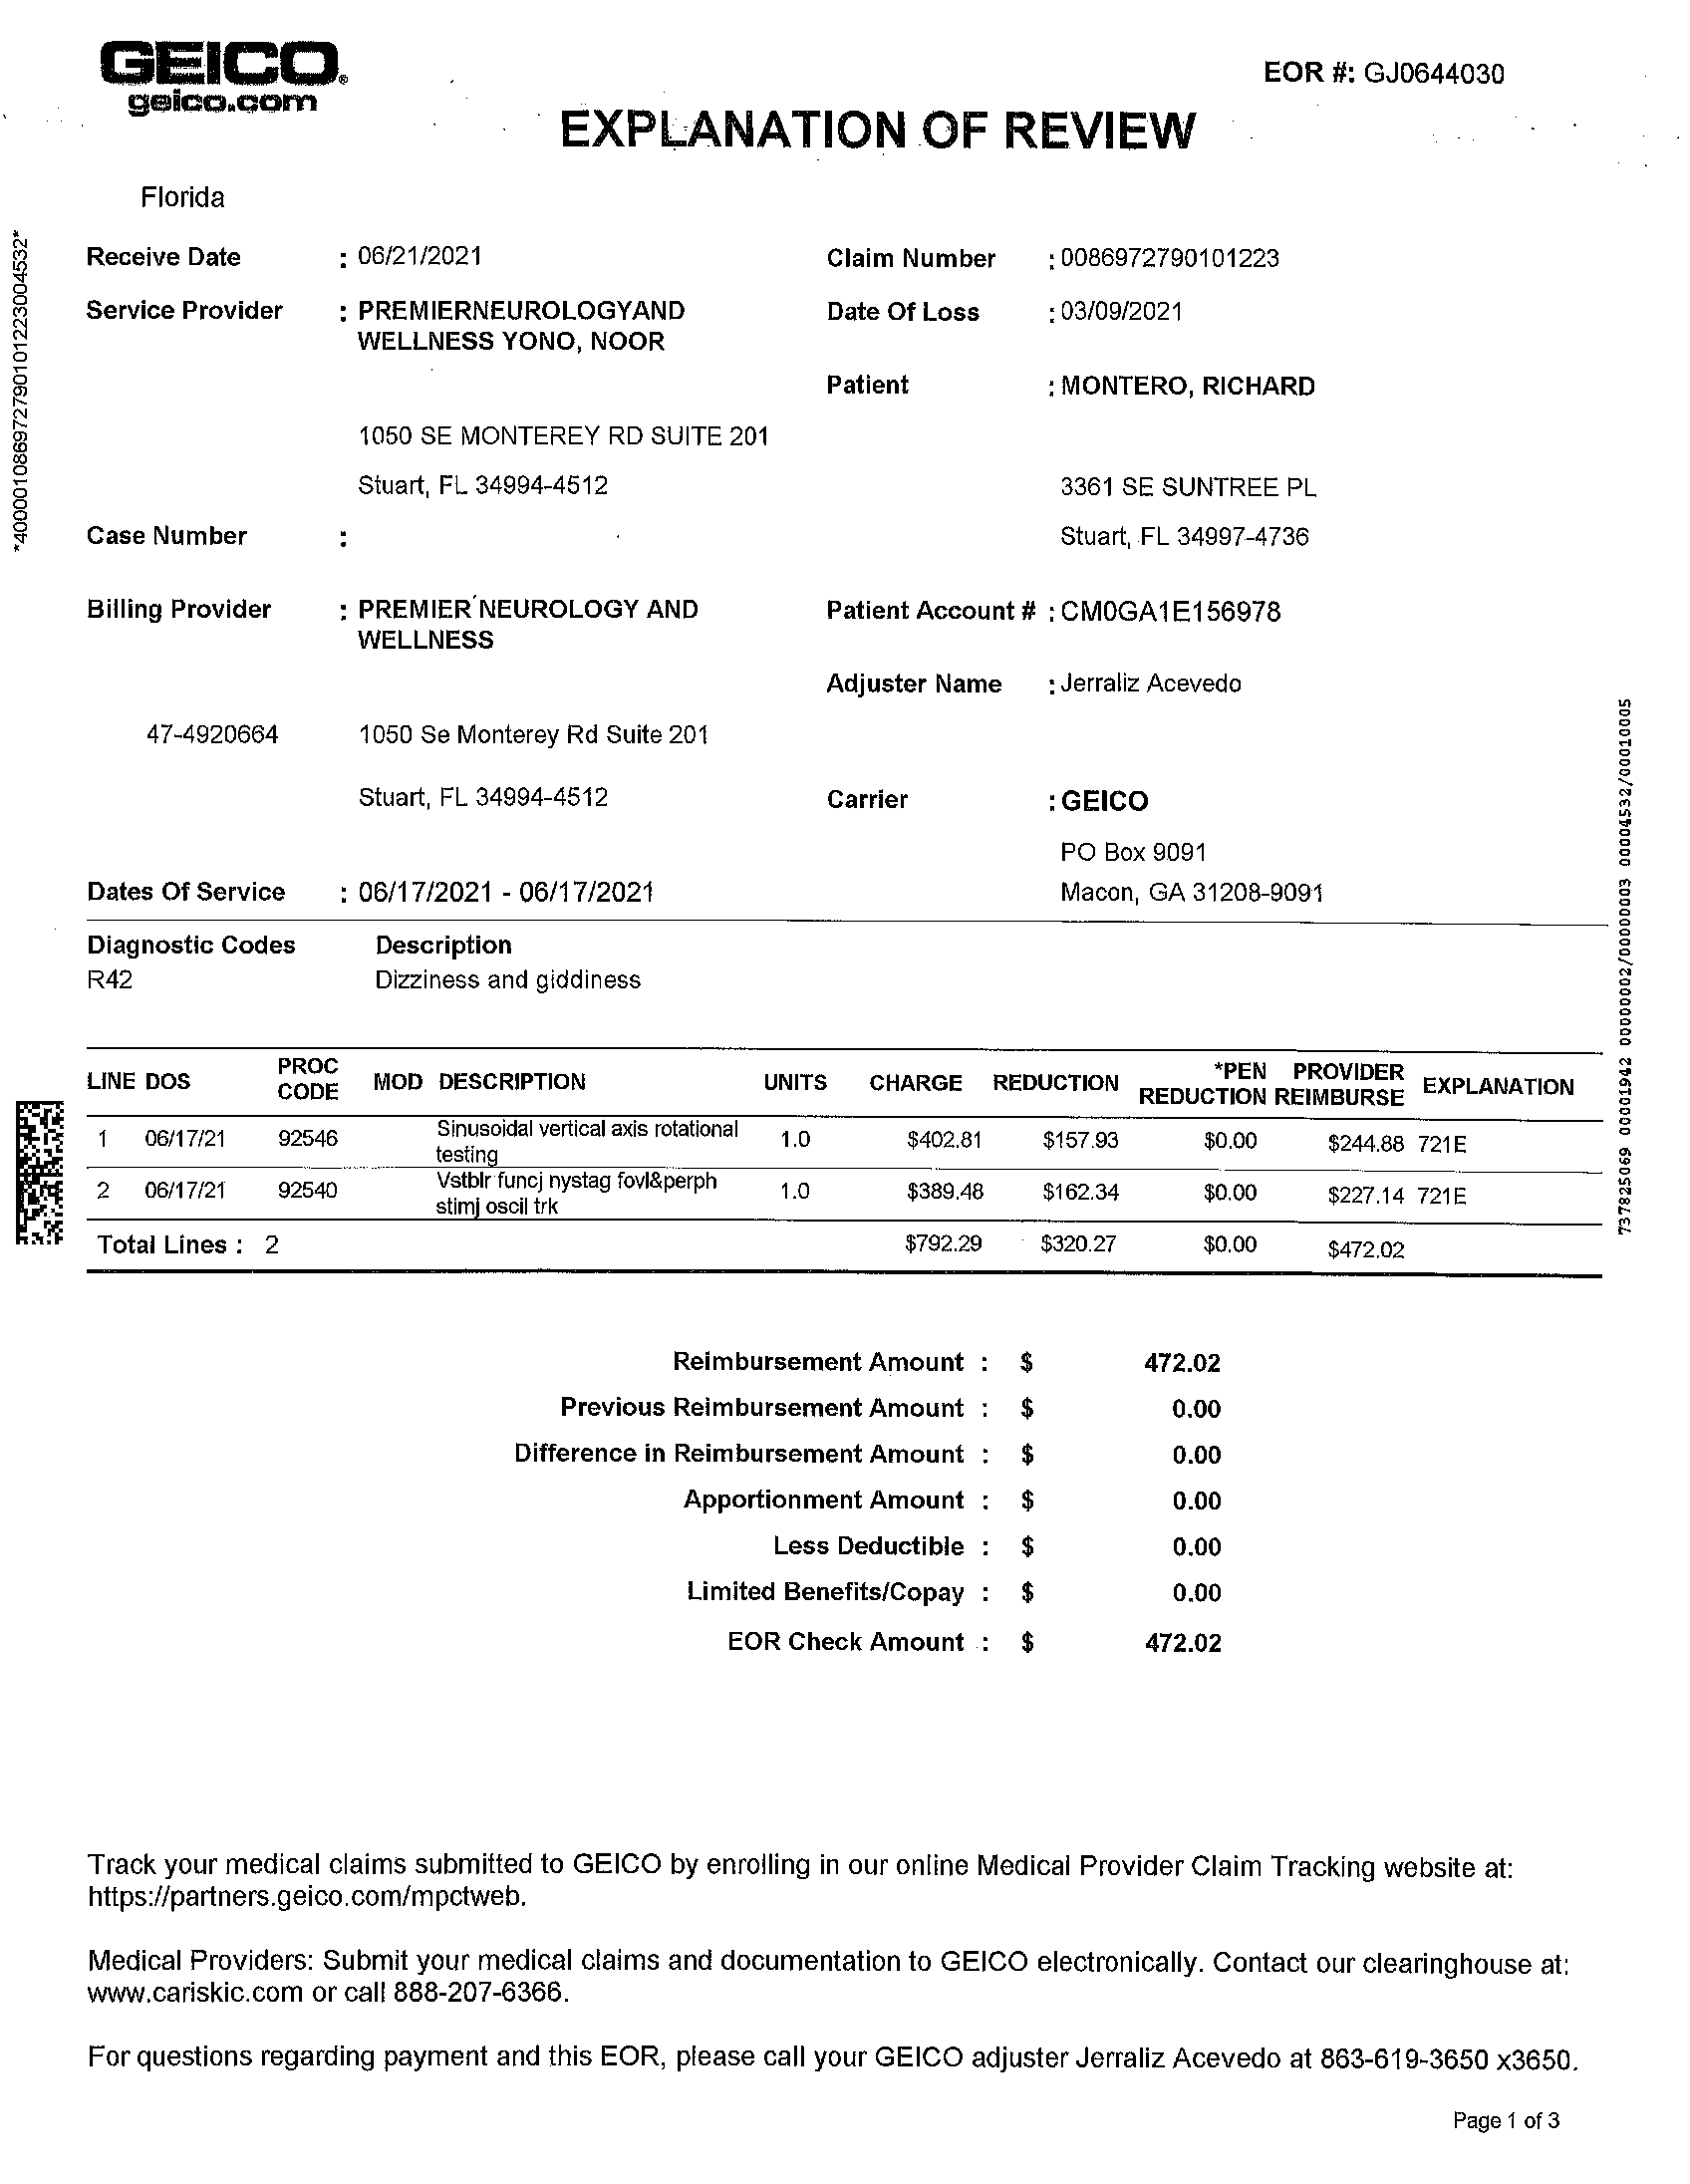data: (66, 567, 720, 1010), (500, 1314, 1252, 1686), (809, 214, 1330, 720), (67, 222, 711, 374), (826, 768, 1339, 915)
table: (82, 1023, 1605, 1287)
